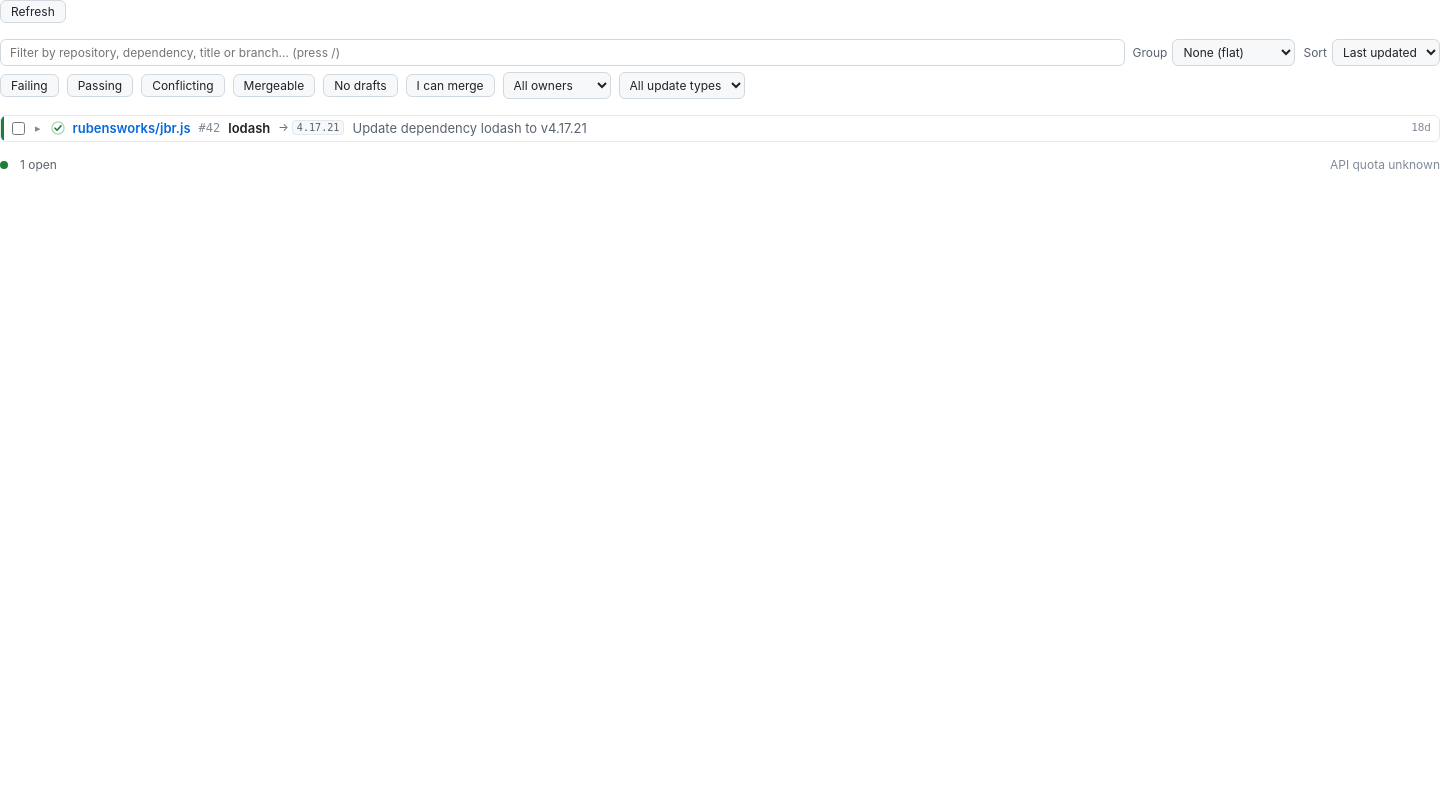
Test: Dashboard › actions › warns about what closing means to Renovate
The width and height of the screenshot is (1440, 810).
Click the button named "Expand" at (38, 128), box [33,123,42,134]
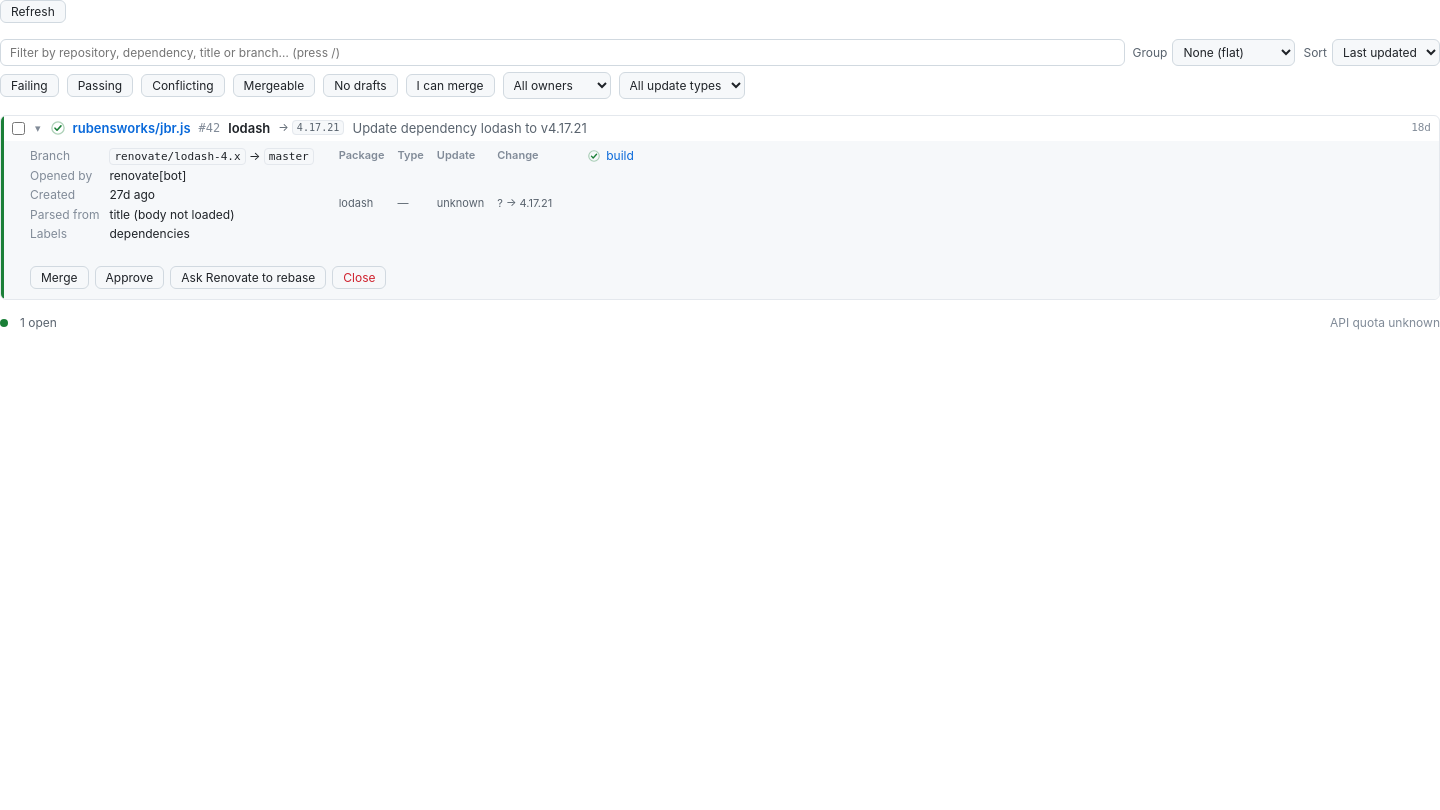
Click the button "Close" at (359, 278), box [332,266,386,289]
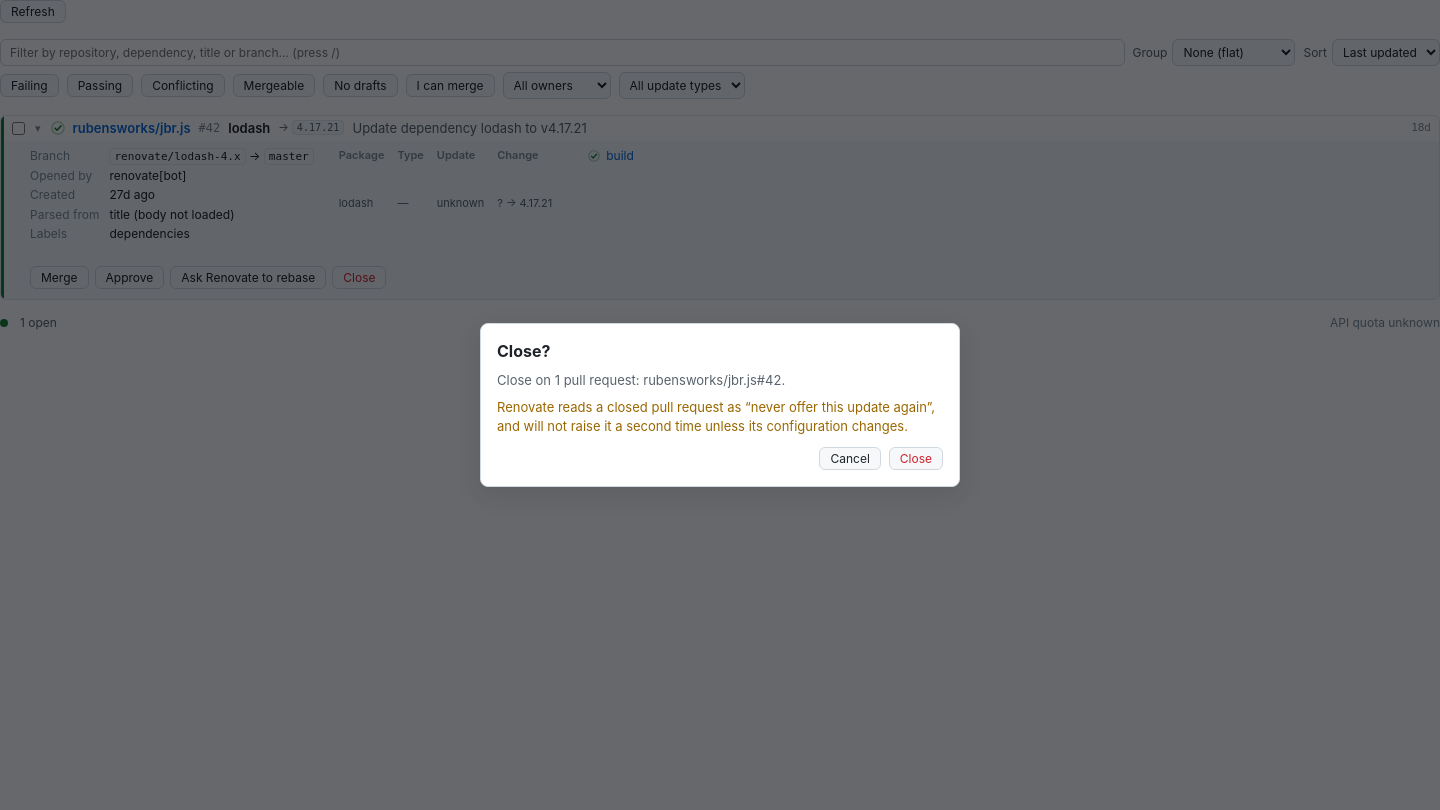
Expected: the dialog shows "never offer this update again", [497,399,935,434]
